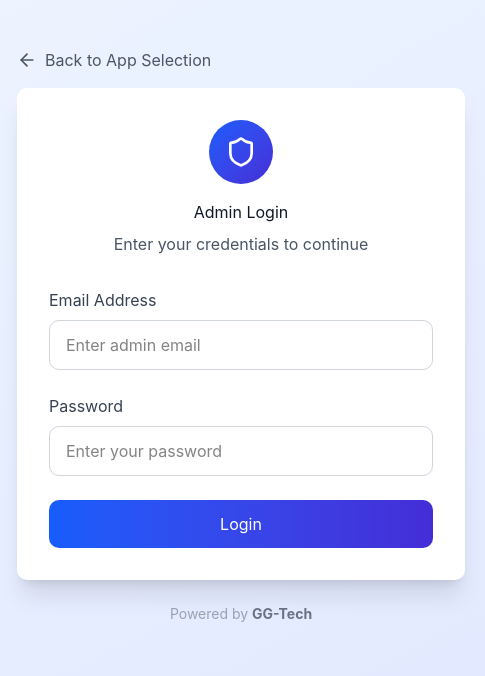
Scenario: AdminLoginScreen › clearing errors › clears an invalid-email error when the email changes
In the field labelled "Email Address": (241, 345) [49, 320, 433, 370], type "random text"
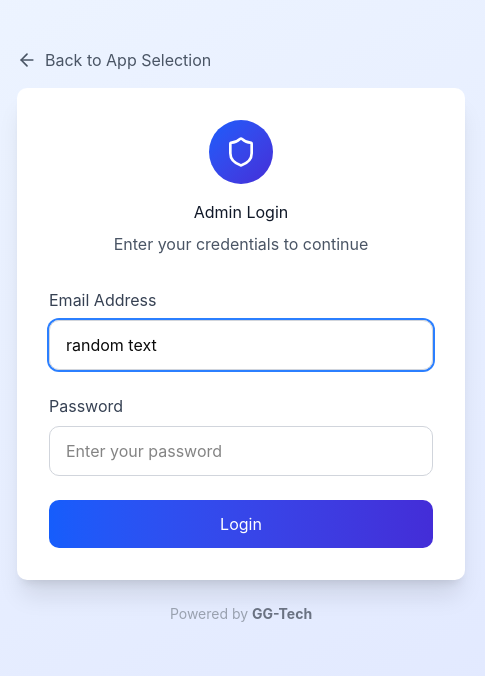
In the password field labelled "Password": (241, 451) [49, 426, 433, 476], type "whatever"
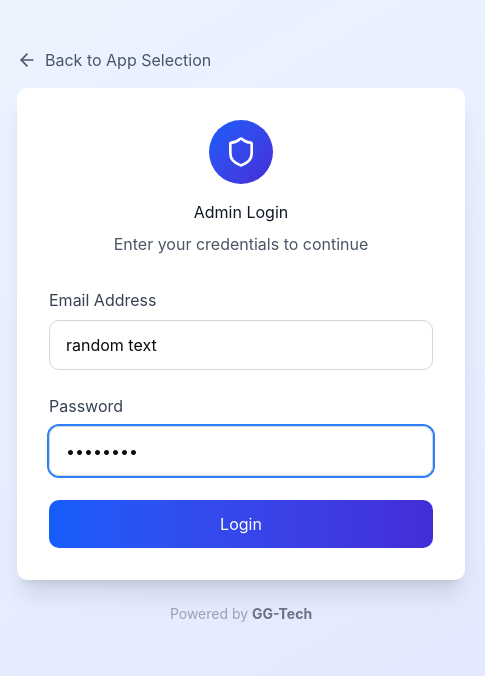
Click the button "Login": (241, 524) [49, 500, 433, 548]
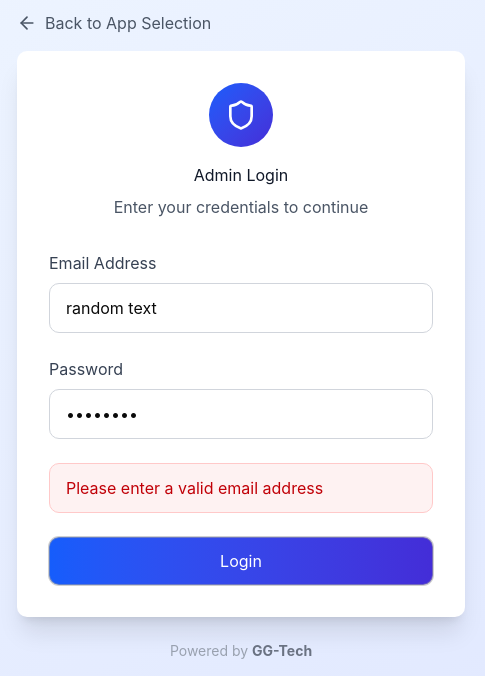
expect the text "Please enter a valid email address" is shown: met, box [49, 463, 433, 513]
In the field labelled "Email Address": (241, 308) [49, 283, 433, 333], type "x"
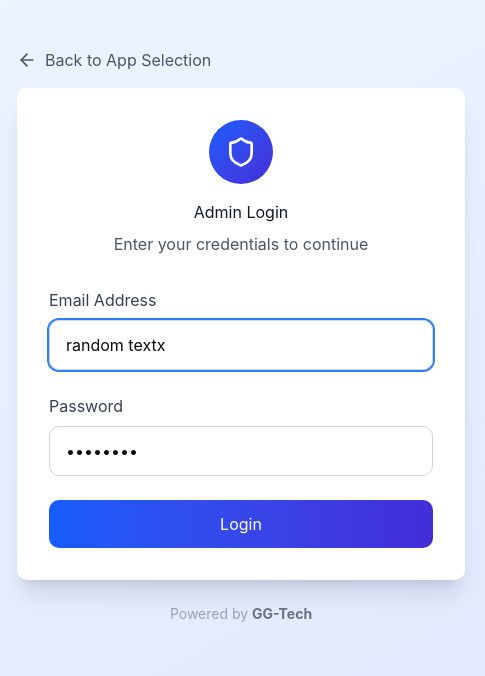
expect the text "Please enter a valid email address" is gone: met
